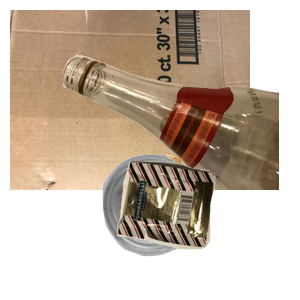cardboard: (10, 10, 250, 190)
glass: (60, 10, 300, 190)
plastic: (100, 152, 293, 300)
trash: (115, 158, 300, 300)
